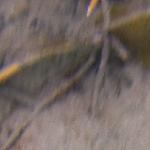dead: (1, 4, 147, 148)
